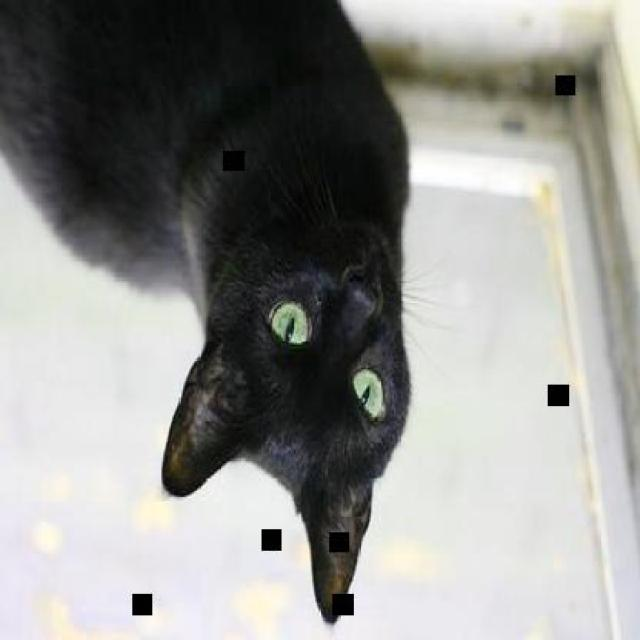cat: (1, 2, 413, 627)
